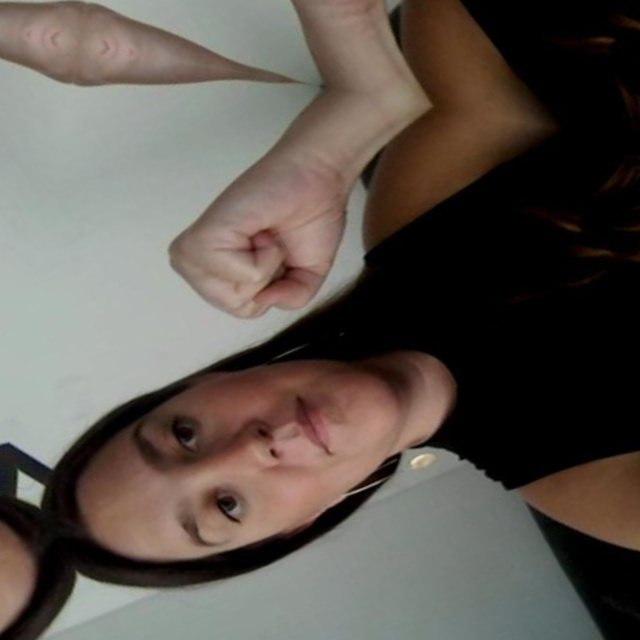Rock: (127, 141, 407, 382)
